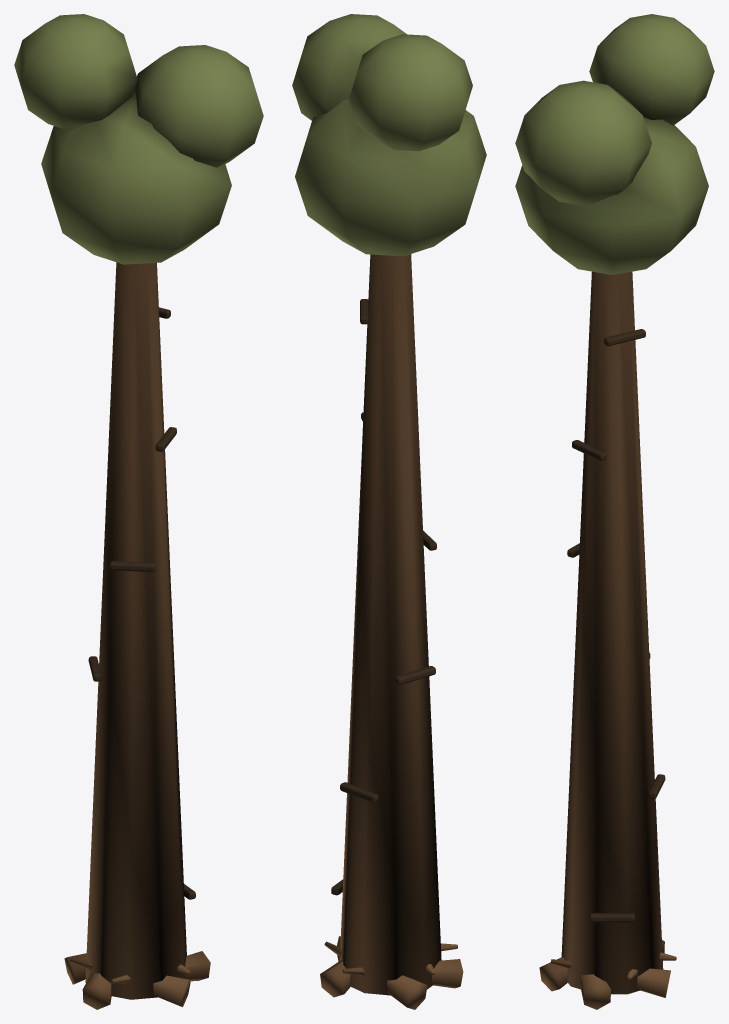
File: prop_hokoragi_b.glb
3 renders of one model, left to right at view 1: azimuth 30°, elevation 25°; view 2: azimuth 150°, elevation 25°; view 3: azimuth 270°, elevation 25°, orthographic. The views are drawn at different scales.
Visible parts, largest first — view 1: prop_hokoragi_b; view 2: prop_hokoragi_b; view 3: prop_hokoragi_b.
Boxes of the visible parts, x1,y1,x2,y2 form: prop_hokoragi_b: (14, 14, 263, 1009); prop_hokoragi_b: (292, 14, 486, 1009); prop_hokoragi_b: (515, 14, 714, 1009).
Bounding box in the file's own units: 0.8 × 3.66 × 0.7.
